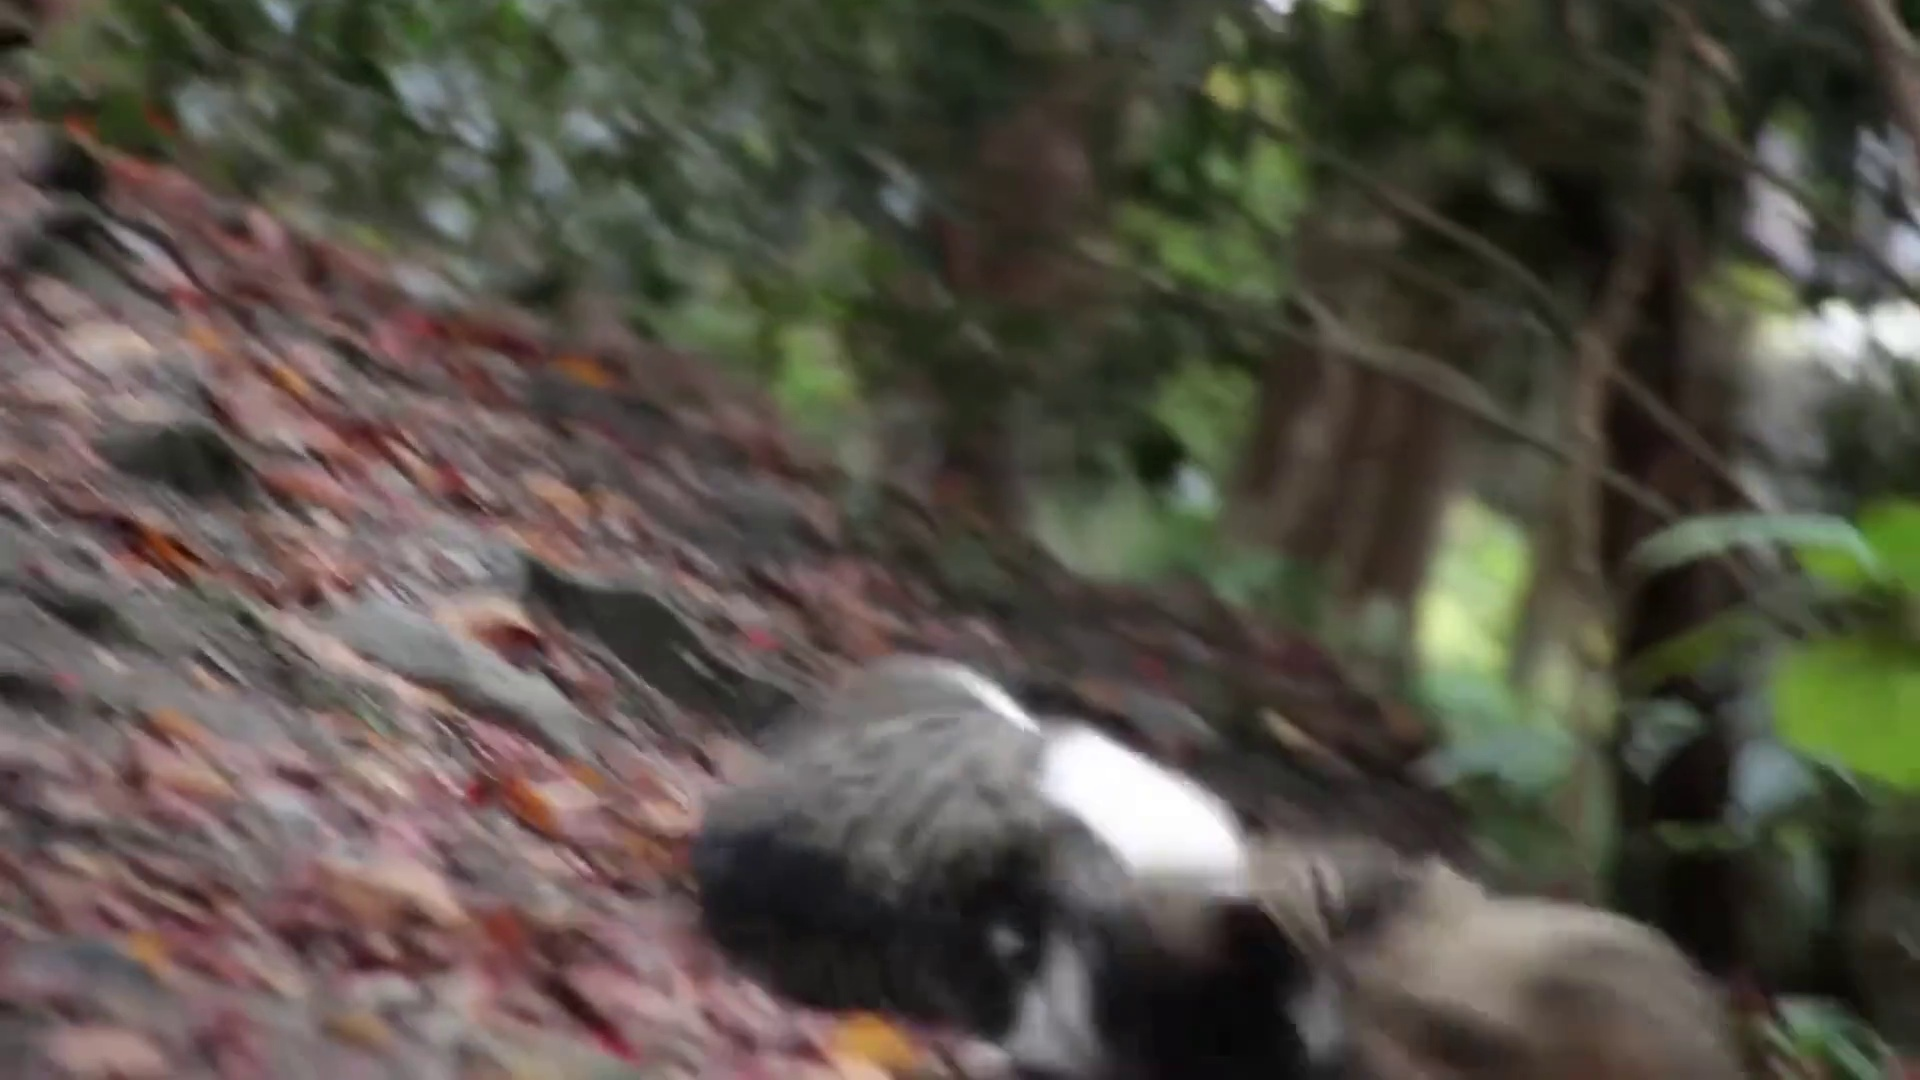black-white: (698, 650, 1338, 1075)
pure black: (1215, 831, 1734, 1080)
